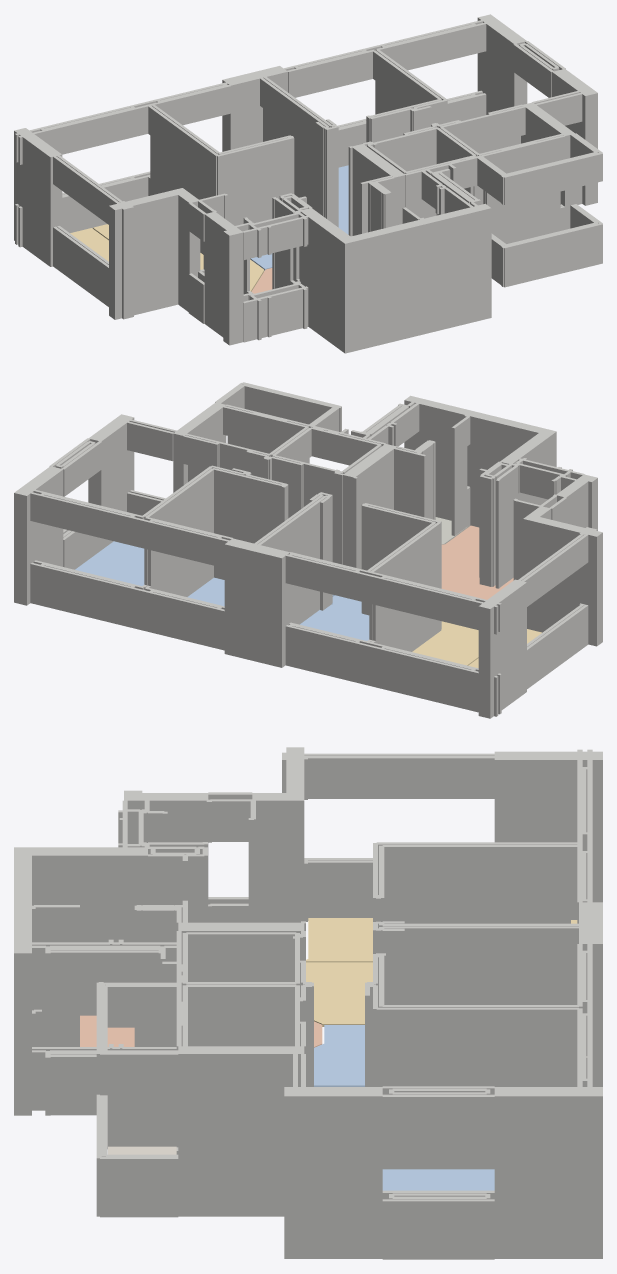
The picture shows the model from 3 angles, top to bottom: view 1: azimuth 30°, elevation 25°; view 2: azimuth 150°, elevation 25°; view 3: azimuth 270°, elevation 25°; orthographic projection. The views are drawn at different scales.
Parts seen in each view (by area): view 1: walls, room:bedroom:3, room:living:0, room:living:1; view 2: walls, room:kitchen:8, room:bedroom:5, room:bedroom:2, room:living:1, room:bedroom:3; view 3: walls, room:living:1, room:living:0, room:bedroom:2, room:bedroom:5, room:kitchen:8.
Boxes of the visible parts, left/top/right/bottom form: walls: left=14, top=14, right=602, bottom=353; room:bedroom:3: left=338, top=165, right=348, bottom=234; room:living:0: left=70, top=228, right=108, bottom=261; room:living:1: left=93, top=224, right=264, bottom=291; walls: left=14, top=382, right=602, bottom=718; room:kitchen:8: left=441, top=525, right=513, bottom=599; room:bedroom:5: left=75, top=541, right=144, bottom=585; room:bedroom:2: left=300, top=595, right=369, bottom=640; room:living:1: left=412, top=621, right=478, bottom=665; room:bedroom:3: left=187, top=577, right=334, bottom=606; walls: left=14, top=747, right=602, bottom=1259; room:living:1: left=306, top=962, right=372, bottom=1026; room:living:0: left=306, top=918, right=577, bottom=962; room:bedroom:2: left=314, top=1025, right=364, bottom=1086; room:bedroom:5: left=382, top=1169, right=494, bottom=1190; room:kitchen:8: left=80, top=1015, right=322, bottom=1047.
Bounding box in the file's own units: 12.9 × 2.8 × 9.19.
